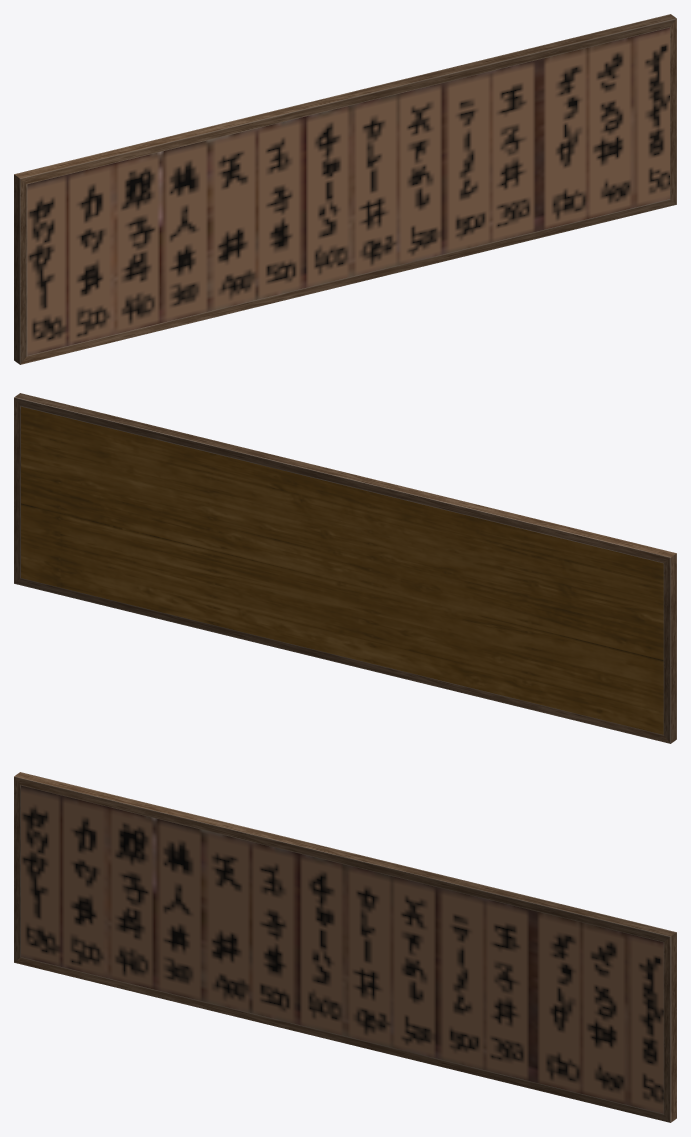
File: shopboard01c.fbx
The picture shows the model from 3 angles, top to bottom: view 1: azimuth 30°, elevation 25°; view 2: azimuth 150°, elevation 25°; view 3: azimuth 330°, elevation 25°; orthographic projection.
Visible parts, largest first — view 1: shopboard01c; view 2: shopboard01c; view 3: shopboard01c.
Part boxes in pixels (x1,y1,x2,y2): shopboard01c: (14, 14, 676, 364); shopboard01c: (14, 393, 676, 743); shopboard01c: (14, 772, 676, 1122).
Bounding box in the file's own units: 154 × 41.61 × 2.51.
